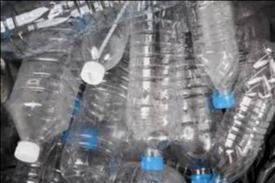Plastic: (9, 1, 91, 163), (125, 1, 188, 173), (1, 1, 164, 60), (55, 51, 128, 182), (208, 38, 274, 182), (180, 1, 240, 108), (75, 1, 132, 89)
